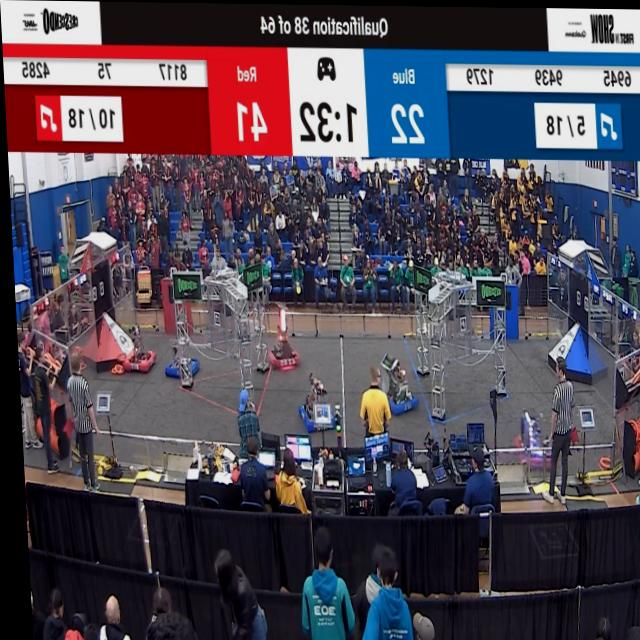Robot: (289, 368, 328, 435), (161, 327, 200, 391), (508, 402, 545, 465), (378, 347, 411, 415), (120, 319, 157, 378), (266, 312, 298, 376)
